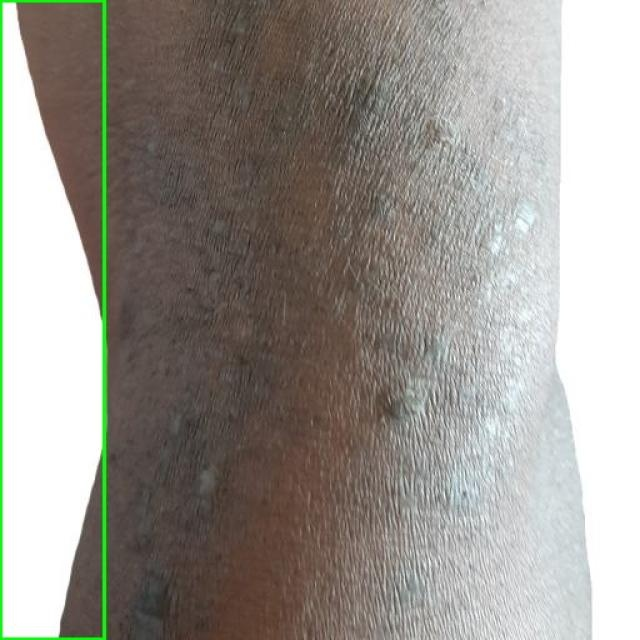Contact Dermatitis: (0, 0, 104, 639)
